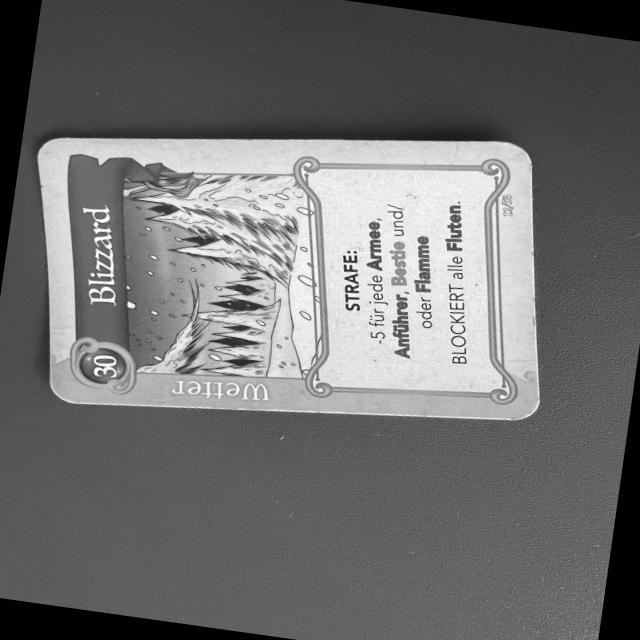Blizzard: (33, 131, 540, 424)
